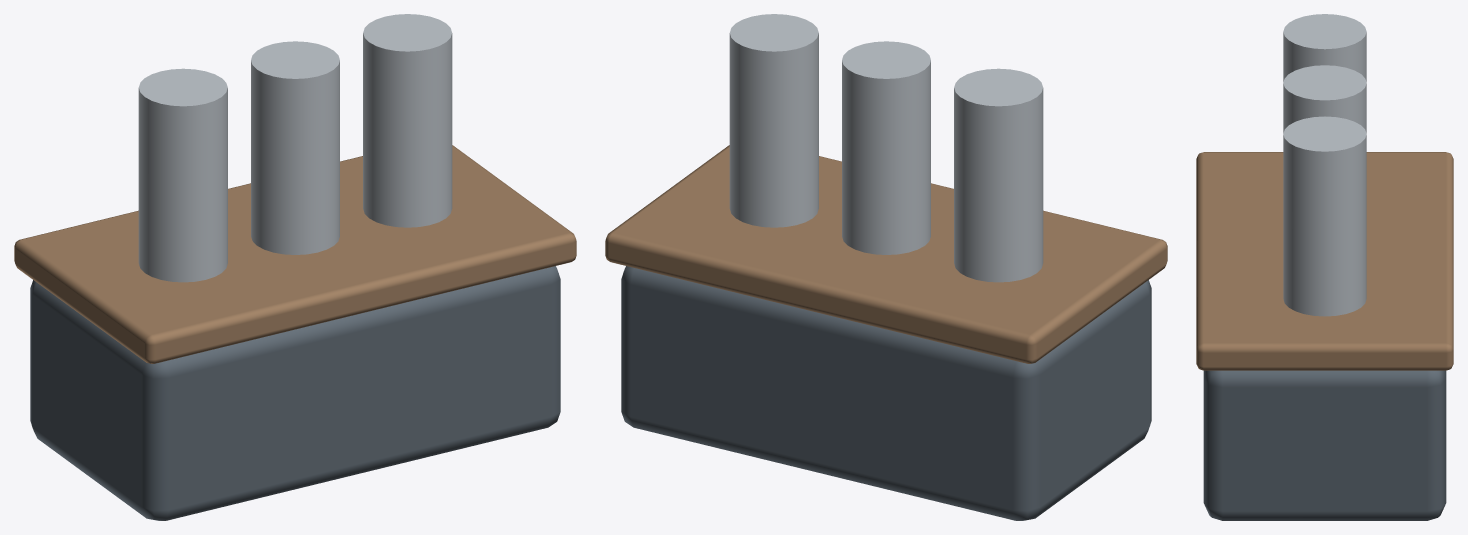
File: arena-shooter-map-kit-ammo-energy-9c75362e__23123.glb
3 views of the same model, side by side, from view 1: azimuth 30°, elevation 25°; view 2: azimuth 150°, elevation 25°; view 3: azimuth 270°, elevation 25° (orthographic). The views are drawn at different scales.
Parts seen in each view (by area): view 1: ammo-energy; view 2: ammo-energy; view 3: ammo-energy.
Boxes of the visible parts, <box> form: ammo-energy: <box>14,14,576,520</box>; ammo-energy: <box>605,14,1167,520</box>; ammo-energy: <box>1196,14,1453,520</box>.
Size of the model in its own units: 0.615 by 0.51 by 0.34.
